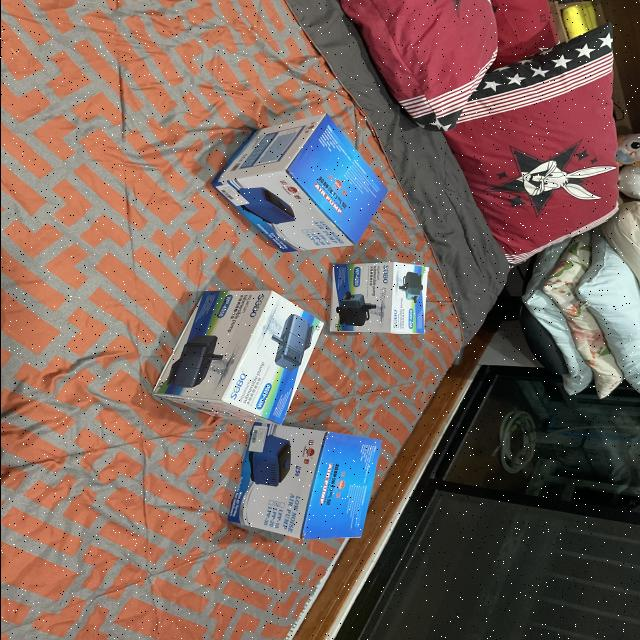SOBO_WP_4200: (140, 282, 334, 426), (315, 252, 444, 348)
YAMANO_LPP_20: (182, 106, 401, 262), (230, 418, 394, 570)
